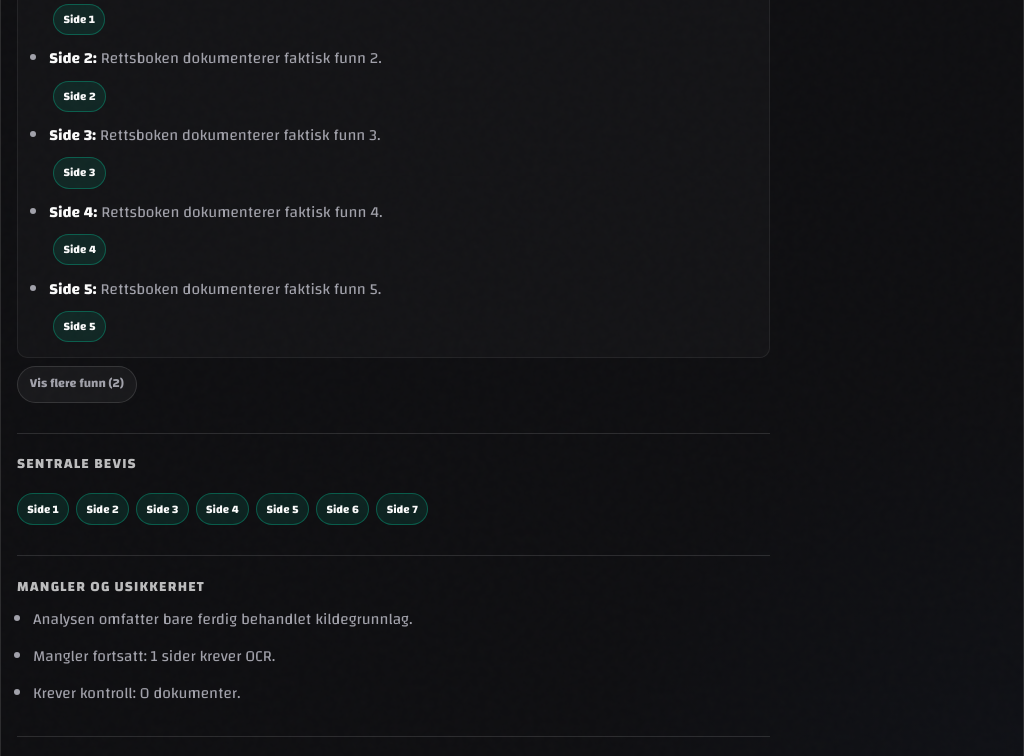
Test: SaksromCaseSummary › collapses long finding lists behind Vis flere funn
(page scrolled)
Expected: the text "faktisk funn 7" is not shown
Click the button "Vis flere funn (2)". click: (77, 384)
box: [17,366,137,403]
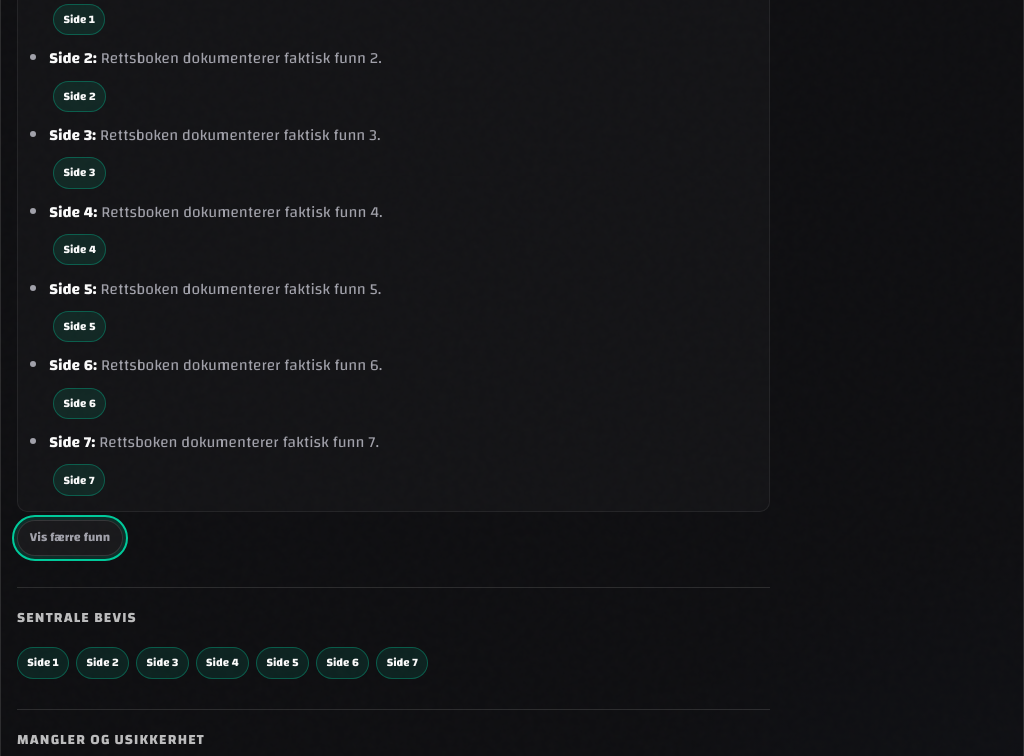
Expected: the text "Side 7: Rettsboken dokumenterer faktisk funn 7." is shown, [49,428,379,457]
